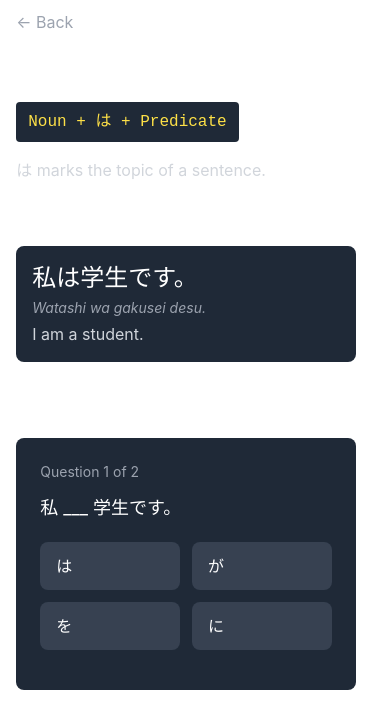
Scenario: GrammarDetailPage › shows Incorrect feedback with correct answer when wrong option is clicked
The image size is (373, 714).
Click the button "が". click: x=262, y=566
box: [192,542,332,590]
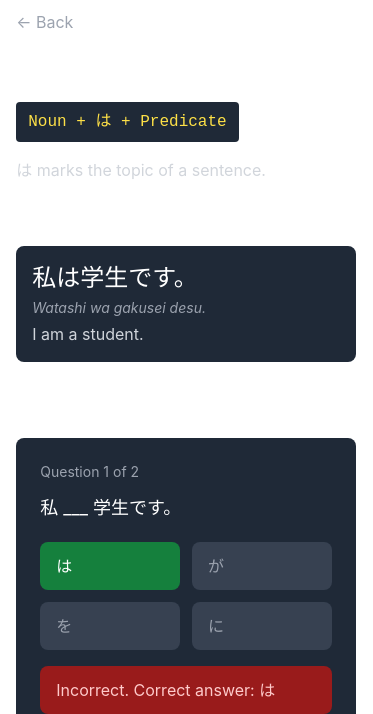
Check: the text "Incorrect. Correct answer: は" is shown, box [40,666,332,713]
